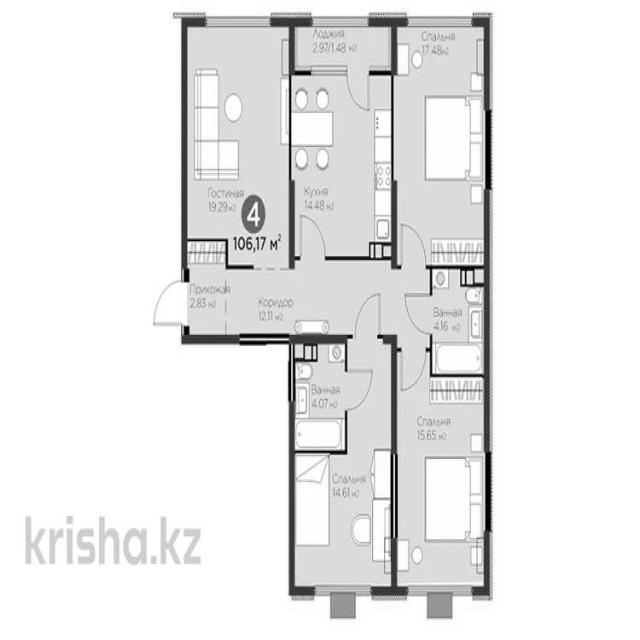balcony: (294, 22, 394, 70)
bathroom: (294, 342, 346, 451), (435, 269, 486, 378)
hallway: (185, 266, 391, 334)
kitchen: (293, 73, 392, 261)
living_room: (187, 22, 290, 246), (397, 25, 485, 260), (397, 381, 485, 594), (292, 456, 395, 594)
